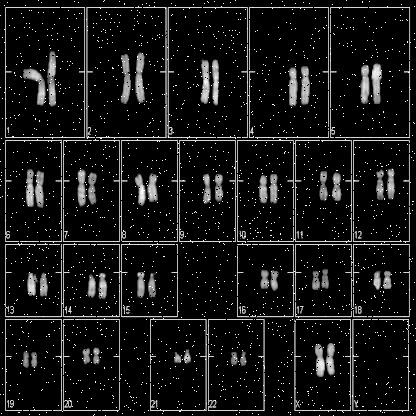1: (21, 67, 46, 107), (48, 49, 58, 107)
10: (260, 172, 268, 206), (270, 172, 278, 204)
11: (332, 170, 340, 203), (320, 170, 327, 202)
12: (387, 166, 396, 200), (376, 168, 384, 202)
13: (40, 272, 49, 296), (28, 272, 36, 296)
14: (98, 271, 108, 300), (86, 274, 98, 298)
15: (137, 270, 145, 298), (149, 270, 157, 298)
16: (260, 267, 268, 290), (270, 269, 278, 292)
17: (311, 270, 321, 292), (320, 268, 330, 290)
18: (374, 271, 382, 291), (384, 269, 392, 289)
19: (30, 350, 38, 372), (22, 348, 29, 370)
2: (119, 52, 131, 104), (134, 52, 146, 104)
20: (82, 348, 90, 368), (92, 346, 100, 366)
21: (180, 349, 194, 365), (172, 354, 181, 366)
22: (237, 348, 248, 366), (230, 348, 238, 365)
3: (200, 58, 209, 106), (212, 60, 221, 107)
4: (302, 66, 311, 107), (288, 66, 297, 106)
5: (372, 62, 382, 107), (361, 64, 369, 105)
6: (26, 168, 34, 209), (36, 169, 44, 208)
7: (78, 168, 86, 209), (89, 168, 97, 209)
8: (148, 172, 160, 205), (134, 174, 146, 206)
9: (214, 172, 224, 204), (203, 172, 212, 206)
X: (314, 341, 326, 378), (326, 341, 337, 378)
